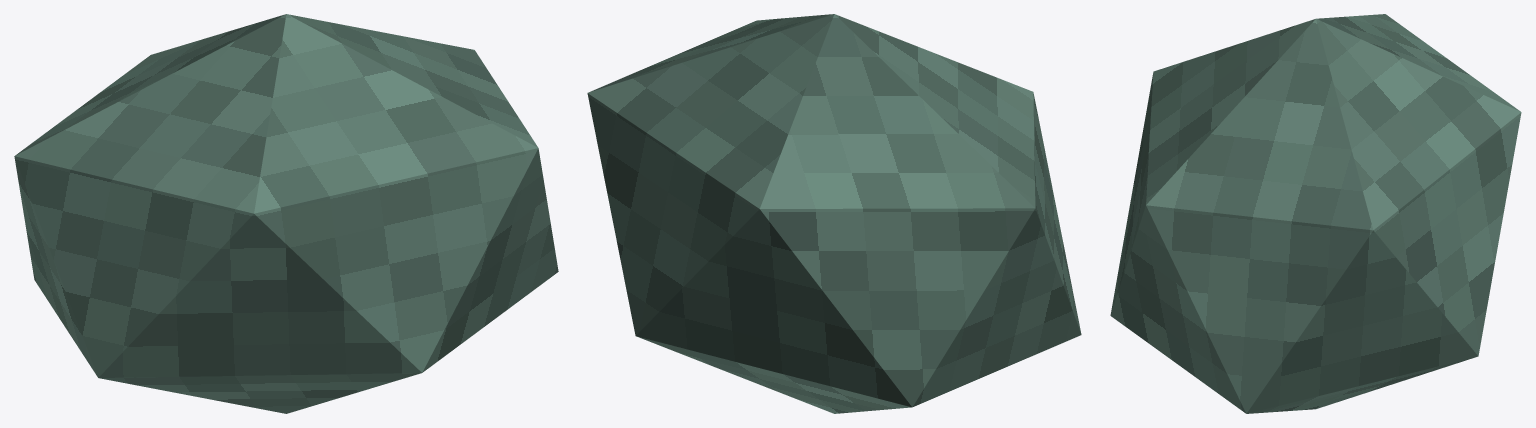
The model's file is rock_18.glb.
3 renders of one model, left to right at view 1: azimuth 30°, elevation 25°; view 2: azimuth 150°, elevation 25°; view 3: azimuth 270°, elevation 25°, orthographic. The views are drawn at different scales.
Visible parts, largest first — view 1: WeatheredStone; view 2: WeatheredStone; view 3: WeatheredStone.
Part boxes in pixels (x1,y1,x2,y2): WeatheredStone: (14,14,558,413); WeatheredStone: (587,14,1081,413); WeatheredStone: (1110,14,1521,413).
Size of the model in its own units: 1.7 by 1.37 by 1.31.
1 material, 1 textured.
